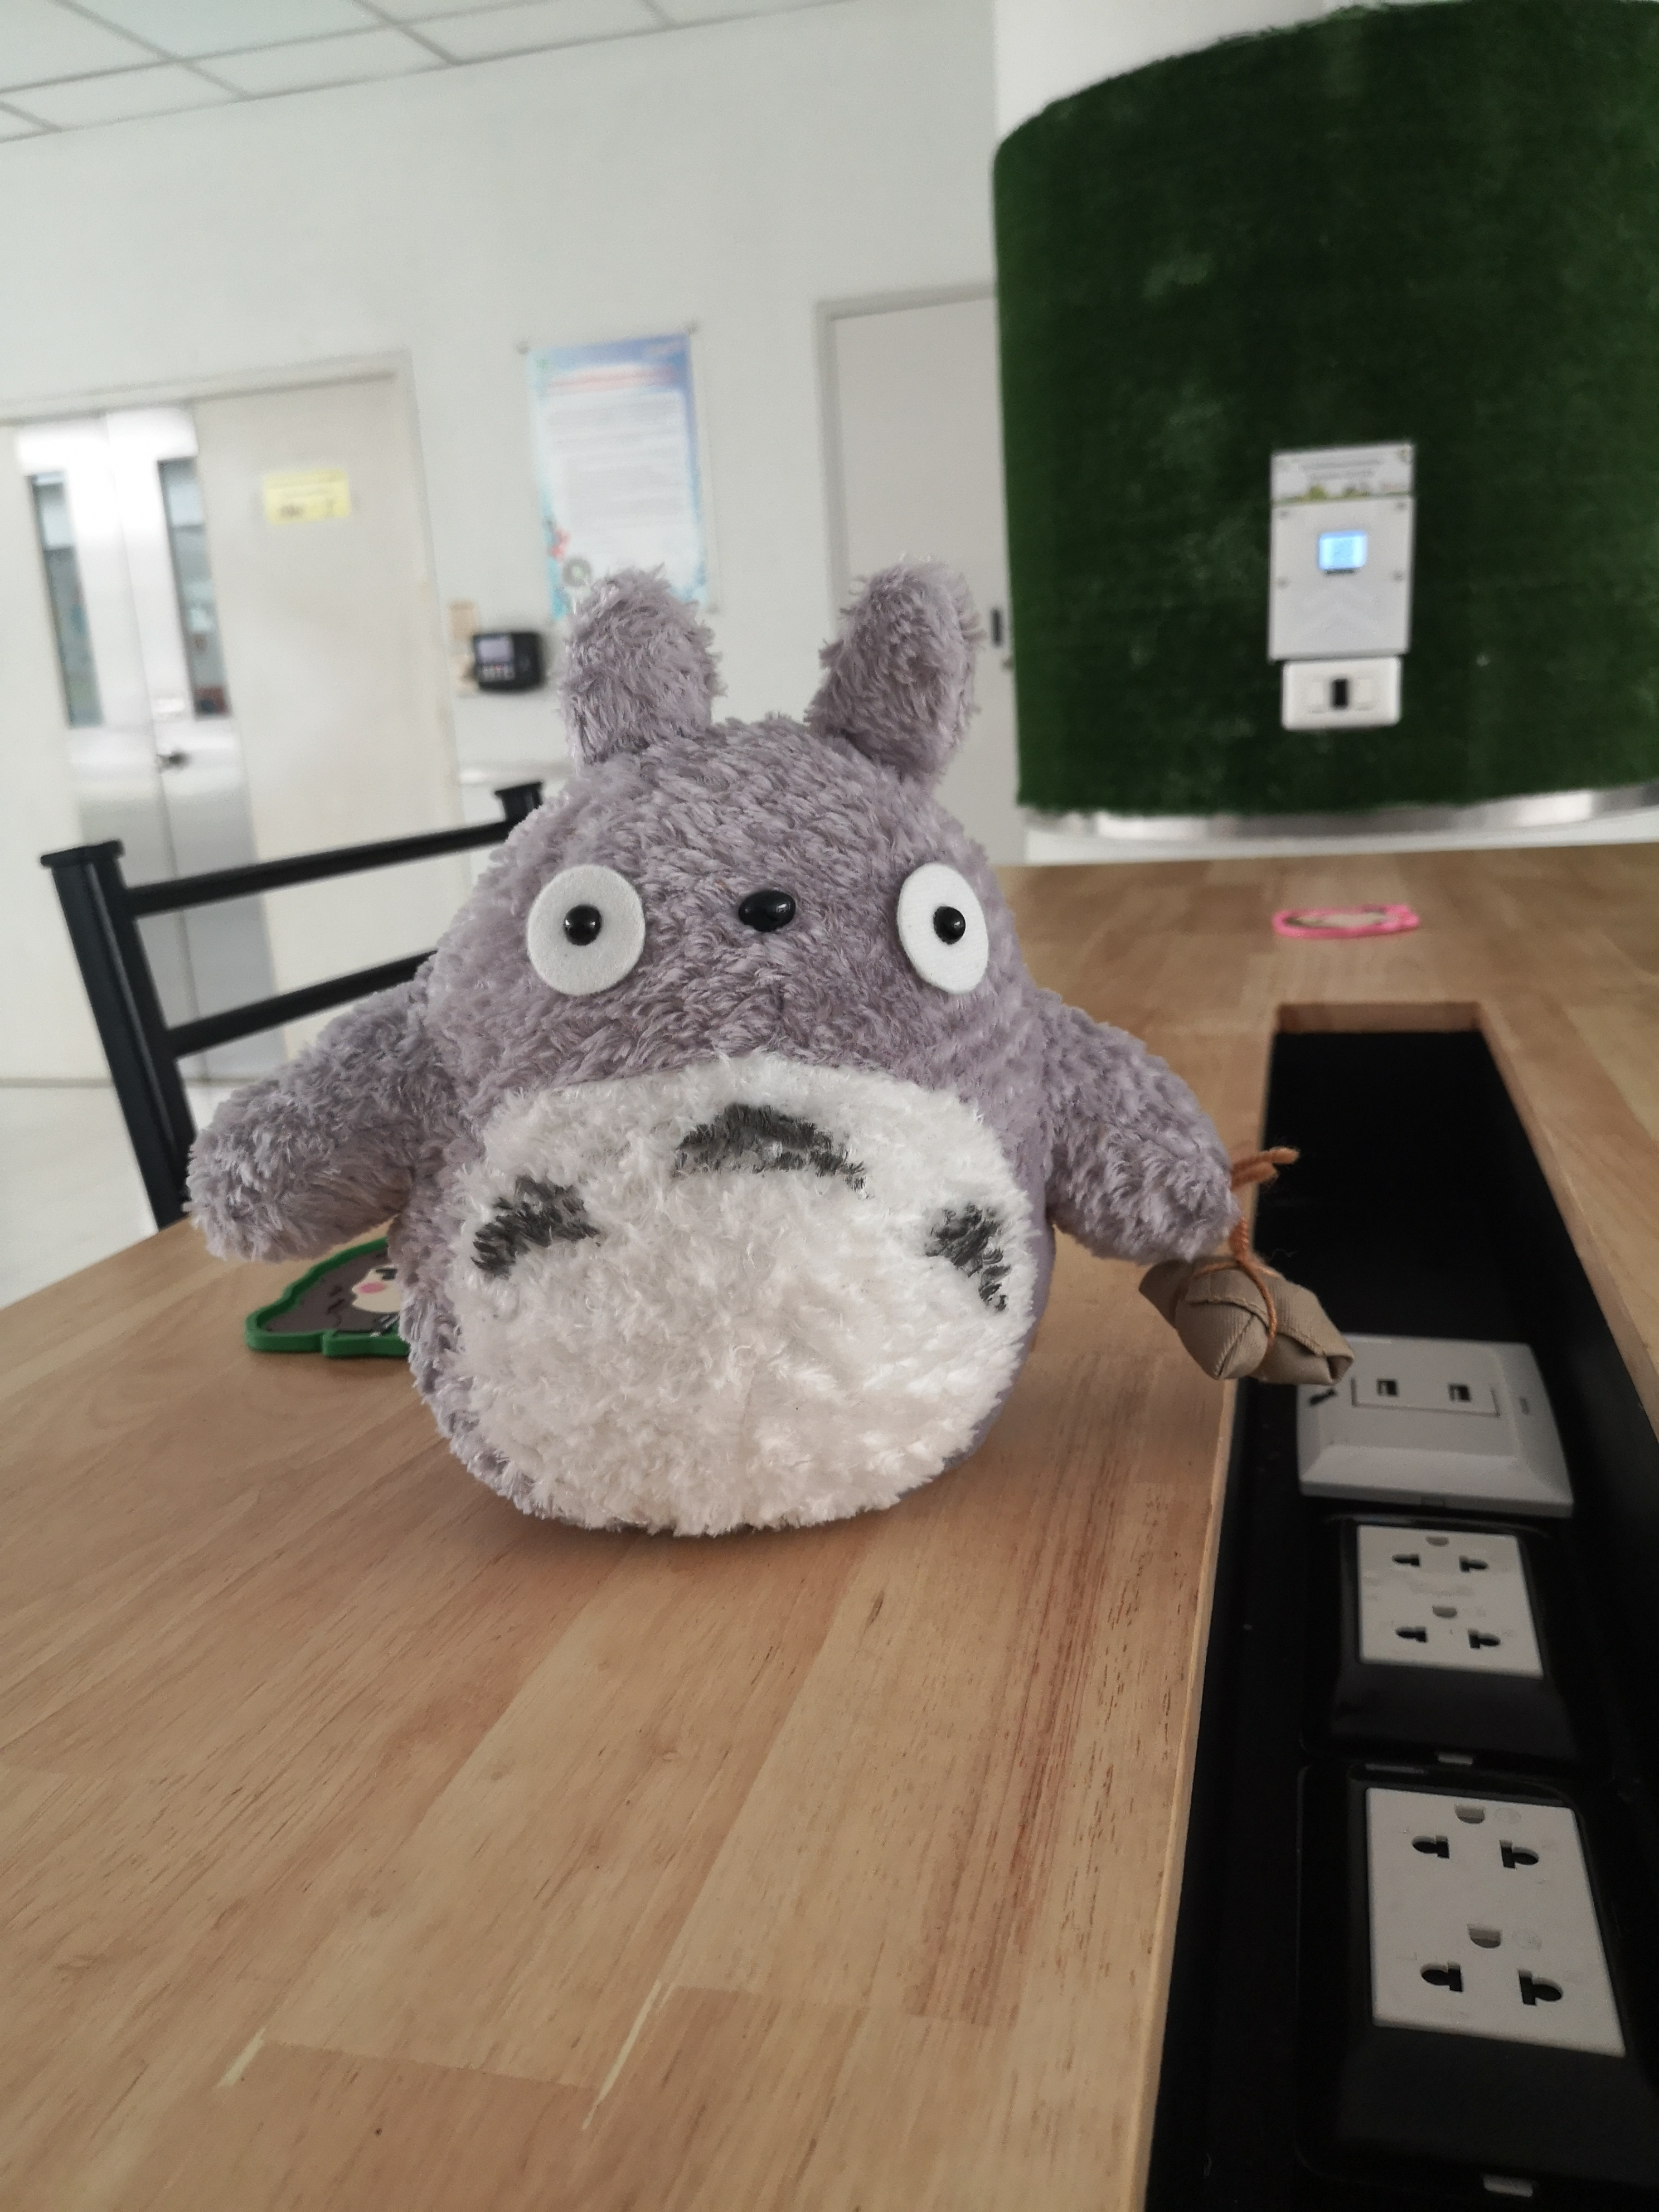totoro: (166, 556, 1354, 1557)
